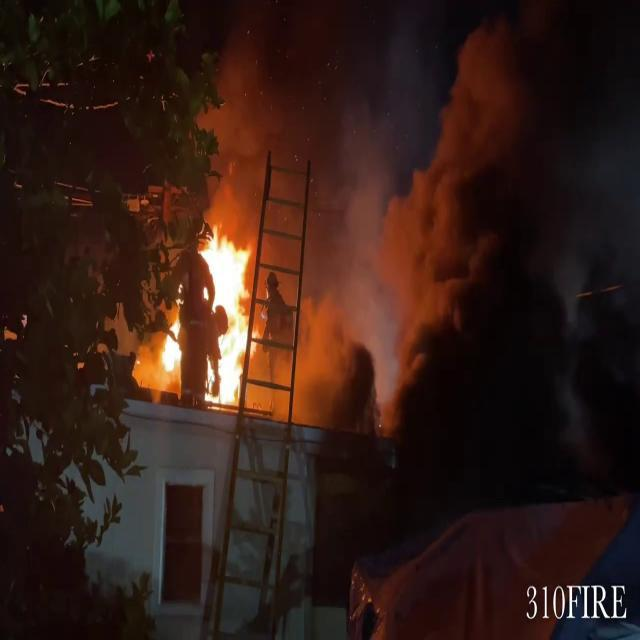Fire: (198, 226, 260, 410), (157, 306, 186, 382)
Smoke: (251, 5, 640, 438)
